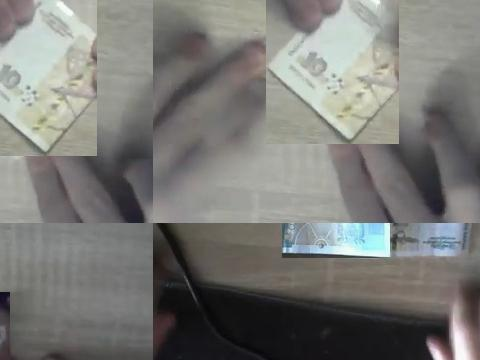10leva: (266, 0, 399, 144), (0, 0, 97, 156)
20leva: (282, 223, 390, 258)
